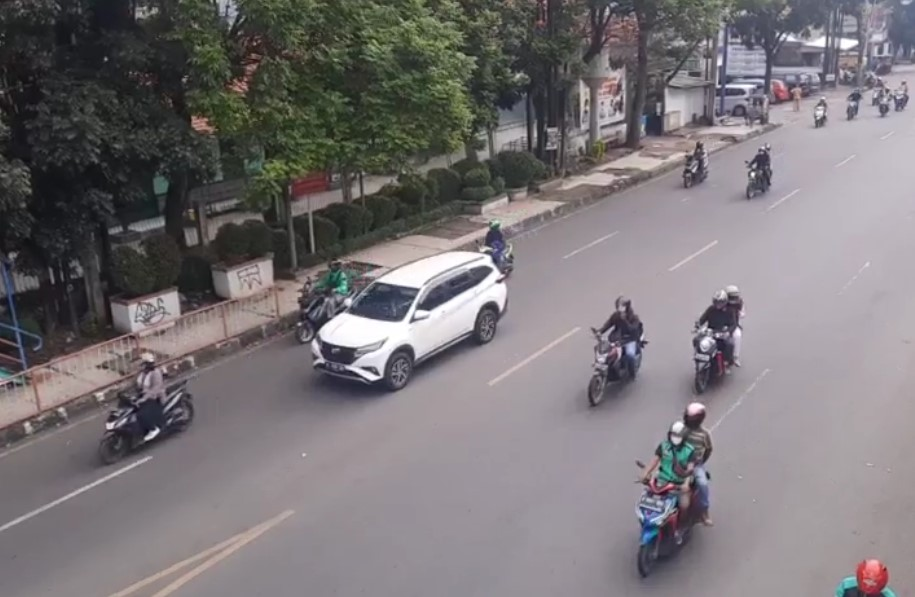motor: (630, 405, 720, 577), (90, 355, 205, 462), (689, 276, 749, 407), (581, 293, 650, 405), (289, 257, 356, 343), (738, 145, 785, 198), (675, 147, 714, 193)
